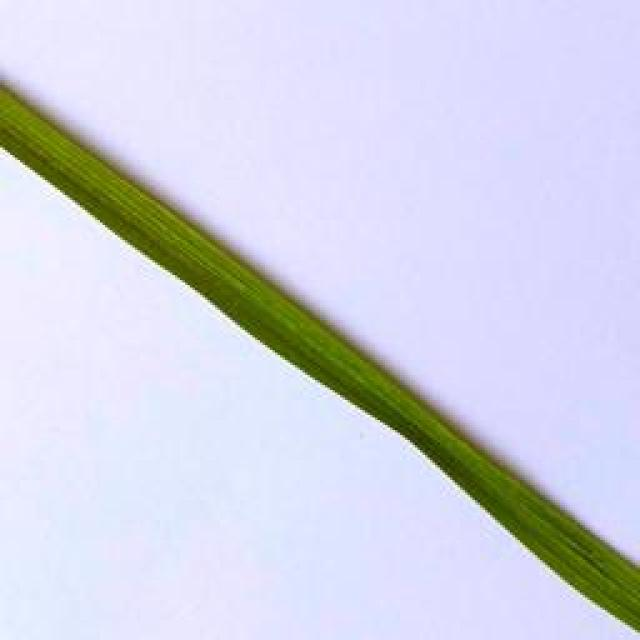Healthy-Plant: (0, 84, 640, 630)
